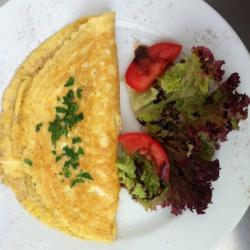omelette: (4, 13, 124, 242)
salad: (145, 69, 219, 215)
